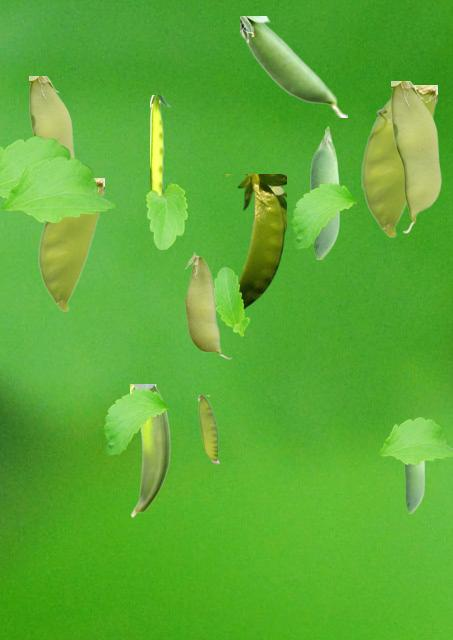pea: (361, 85, 436, 236), (240, 16, 346, 116), (38, 178, 103, 310), (226, 174, 285, 309), (391, 81, 440, 232), (130, 384, 170, 516), (184, 252, 231, 358), (310, 126, 338, 258), (29, 76, 74, 157), (150, 95, 169, 194), (198, 395, 218, 463), (404, 462, 423, 512)
